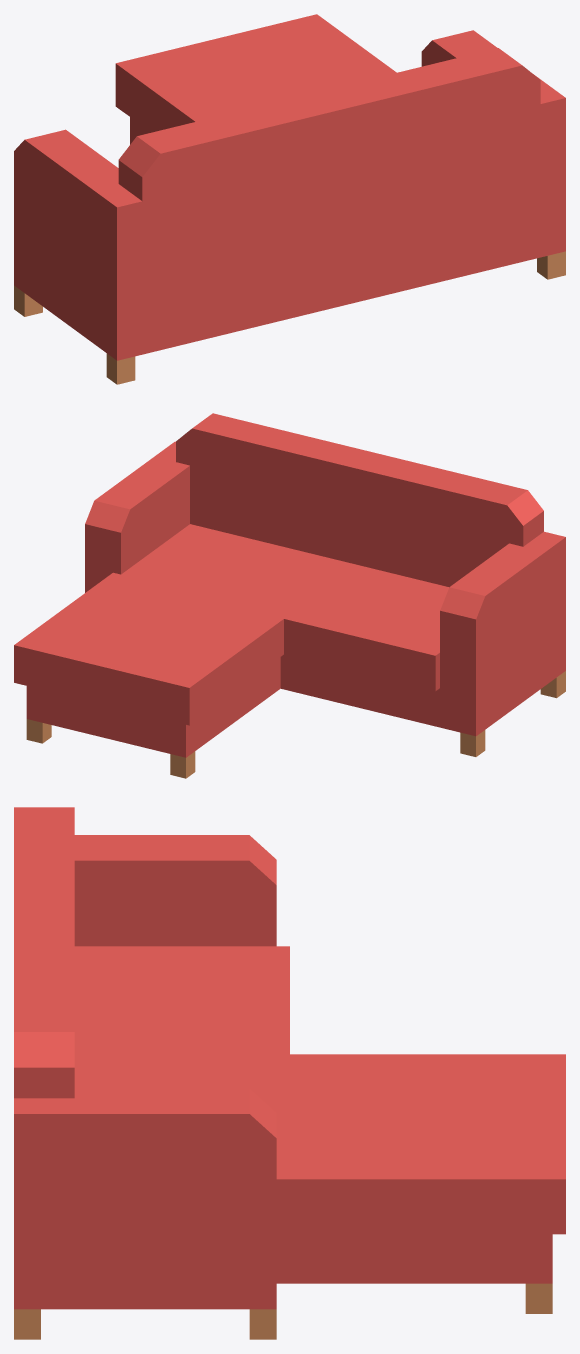
The model's file is loungeSofaLong.dae.
3 views of the same model, one above another, from view 1: azimuth 30°, elevation 25°; view 2: azimuth 150°, elevation 25°; view 3: azimuth 270°, elevation 25° (orthographic). The views are drawn at different scales.
Parts seen in each view (by area): view 1: loungeSofaLong; view 2: loungeSofaLong; view 3: loungeSofaLong.
Part boxes in pixels (box(x1,y1,x2,y2)): loungeSofaLong: box(14, 14, 565, 384); loungeSofaLong: box(14, 413, 565, 778); loungeSofaLong: box(14, 807, 565, 1339).
Bounding box in the file's own units: 0.98 × 0.46 × 0.82.
